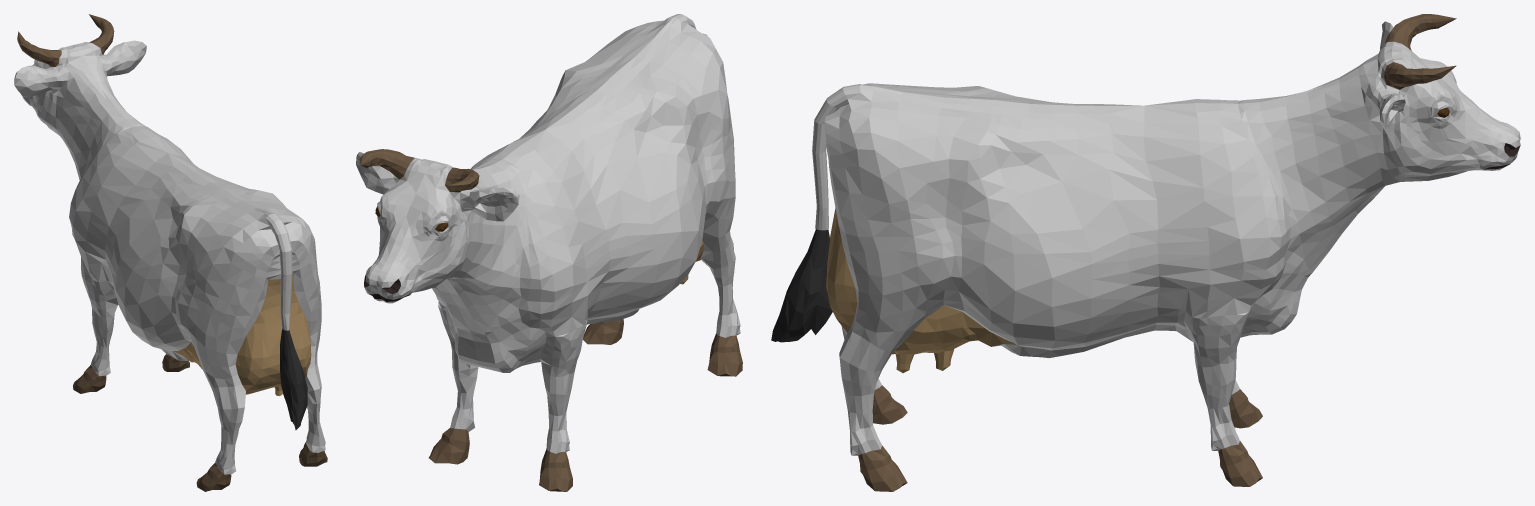
File: cow.obj
3 renders of one model, left to right at view 1: azimuth 30°, elevation 25°; view 2: azimuth 150°, elevation 25°; view 3: azimuth 270°, elevation 25°, orthographic. The views are drawn at different scales.
Visible parts, largest first — view 1: Cow.lwo; view 2: Cow.lwo; view 3: Cow.lwo.
Boxes of the visible parts, left/top/right/bottom form: Cow.lwo: left=14, top=14, right=327, bottom=491; Cow.lwo: left=356, top=14, right=742, bottom=491; Cow.lwo: left=771, top=14, right=1520, bottom=491.
Size of the model in its own units: 0.8507 by 1.58 by 2.62.
